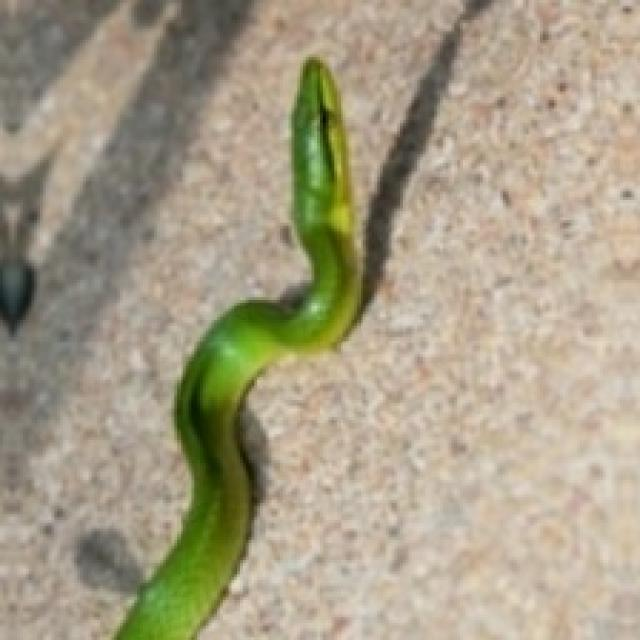red-tailed green ratsnake: (114, 57, 360, 637)
